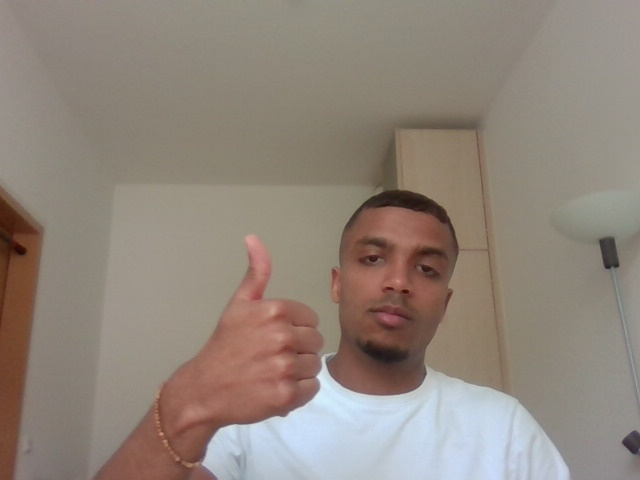yes: (185, 228, 329, 448)
